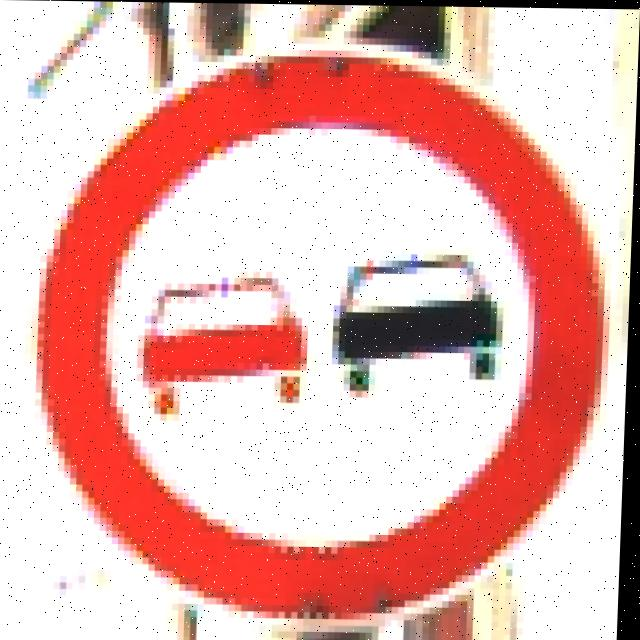no_overtaking: (21, 53, 638, 617)
